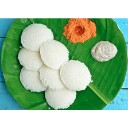idly: (61, 60, 92, 92), (40, 39, 71, 70), (19, 62, 50, 93), (22, 21, 52, 50), (37, 63, 67, 90), (45, 84, 76, 109), (17, 45, 46, 70)
